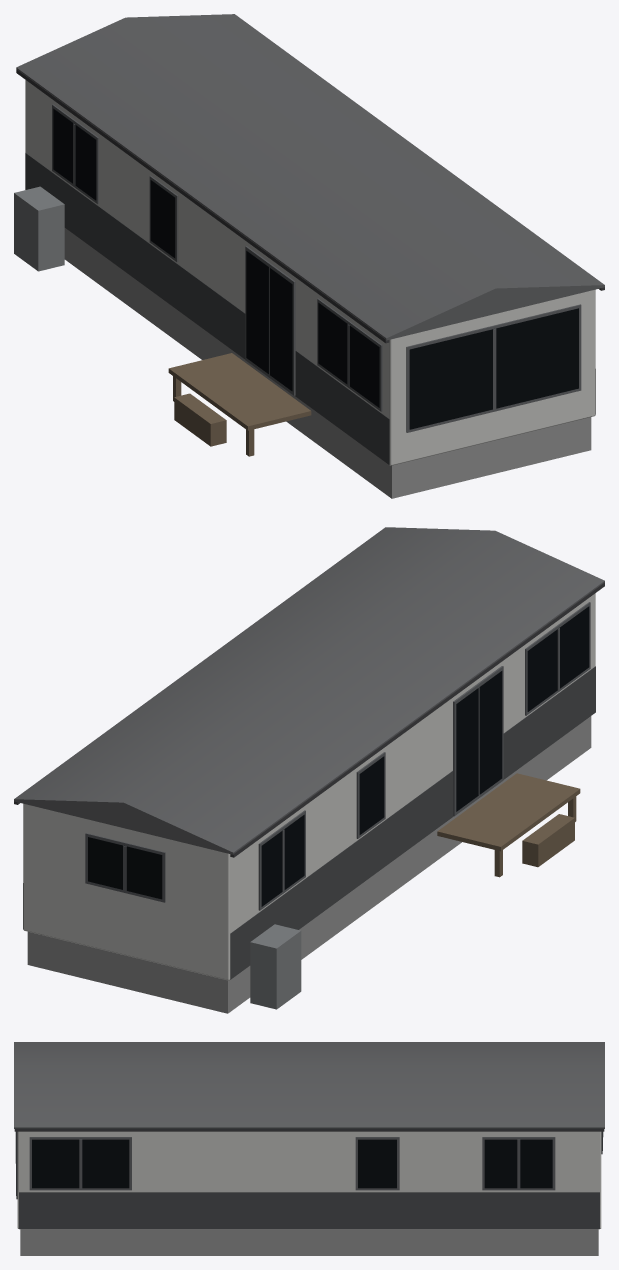
Rendered from vehicle.towed.static_caravan_b.glb.
The picture shows the model from 3 angles, top to bottom: view 1: azimuth 30°, elevation 25°; view 2: azimuth 150°, elevation 25°; view 3: azimuth 270°, elevation 25°; orthographic projection. The views are drawn at different scales.
Parts seen in each view (by area): view 1: main__concrete_666, main__glass_dark, main__paint_ccc, main__paint_999, main__paint_455, main__timber_765, main__enamel_566, main__enamel_778, main__enamel_444; view 2: main__concrete_666, main__paint_ccc, main__glass_dark, main__paint_999, main__paint_455, main__timber_765, main__enamel_566, main__enamel_778, main__enamel_444; view 3: main__concrete_666, main__paint_ccc, main__paint_455, main__paint_999, main__glass_dark, main__enamel_566, main__enamel_444.
Part boxes in pixels (x1=…): main__concrete_666: x1=16, y1=14, x2=604, y2=340; main__glass_dark: x1=53, y1=108, x2=578, y2=429; main__paint_ccc: x1=25, y1=80, x2=595, y2=465; main__paint_999: x1=64, y1=228, x2=591, y2=498; main__paint_455: x1=25, y1=152, x2=595, y2=464; main__timber_765: x1=168, y1=353, x2=311, y2=456; main__enamel_566: x1=52, y1=104, x2=581, y2=432; main__enamel_778: x1=14, y1=186, x2=64, y2=271; main__enamel_444: x1=16, y1=69, x2=604, y2=343; main__concrete_666: x1=14, y1=527, x2=604, y2=854; main__paint_ccc: x1=23, y1=593, x2=595, y2=980; main__glass_dark: x1=88, y1=606, x2=589, y2=906; main__paint_999: x1=27, y1=716, x2=591, y2=1013; main__paint_455: x1=23, y1=666, x2=595, y2=979; main__timber_765: x1=437, y1=773, x2=580, y2=877; main__enamel_566: x1=85, y1=602, x2=590, y2=910; main__enamel_778: x1=250, y1=924, x2=301, y2=1009; main__enamel_444: x1=14, y1=582, x2=604, y2=857; main__concrete_666: x1=14, y1=1042, x2=604, y2=1128; main__paint_ccc: x1=17, y1=1131, x2=601, y2=1229; main__paint_455: x1=19, y1=1192, x2=599, y2=1228; main__paint_999: x1=20, y1=1229, x2=598, y2=1255; main__glass_dark: x1=16, y1=1132, x2=602, y2=1195; main__enamel_566: x1=15, y1=1131, x2=603, y2=1199; main__enamel_444: x1=14, y1=1128, x2=604, y2=1131.
Size of the model in its own units: 5.53 by 3.42 by 12.14.
